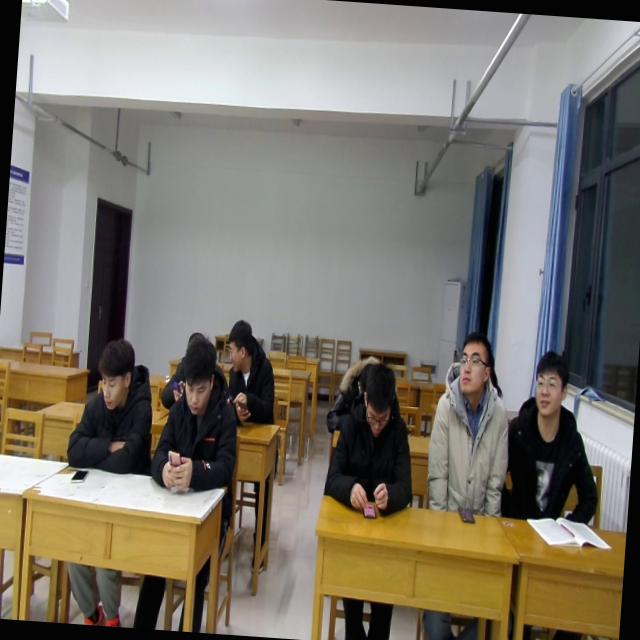bow: (322, 346, 389, 438)
down: (177, 333, 220, 424), (92, 331, 137, 417), (357, 358, 397, 442)
lookup: (526, 341, 572, 420), (451, 328, 496, 405)
sit: (498, 346, 608, 524), (424, 326, 518, 519), (148, 330, 246, 492), (322, 360, 419, 517), (63, 330, 159, 478), (221, 316, 282, 427)
